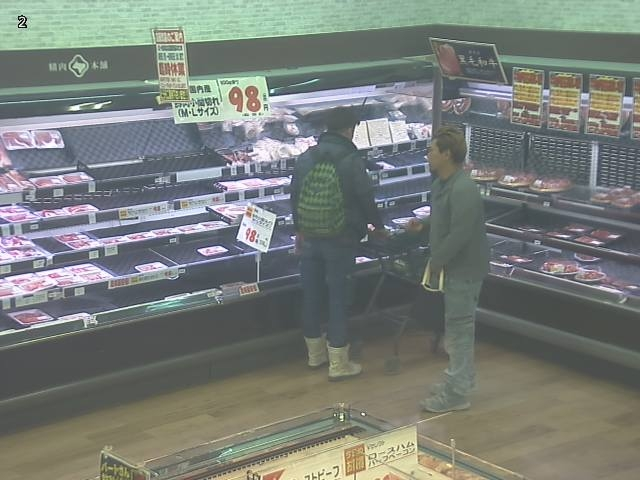meat: (53, 202, 247, 251), (0, 130, 94, 194), (0, 263, 116, 298), (0, 202, 99, 223), (162, 282, 240, 301), (218, 174, 294, 192), (0, 235, 46, 264), (8, 308, 53, 325), (392, 206, 429, 225), (196, 245, 229, 257), (135, 262, 168, 273)
meatless: (7, 101, 418, 181), (0, 231, 298, 331), (18, 167, 294, 210), (86, 211, 221, 237), (372, 177, 433, 200), (364, 149, 427, 171), (379, 201, 430, 228), (269, 223, 295, 248), (30, 237, 73, 252), (257, 199, 292, 215)
